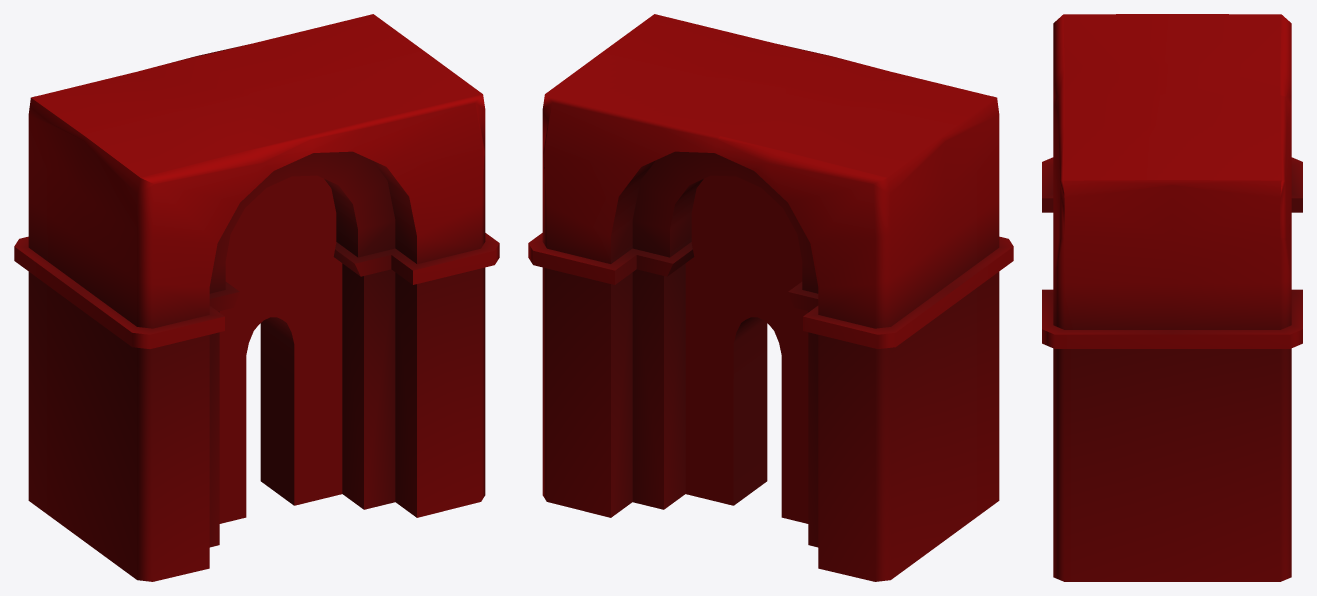
Rendered from buildings-ruins-cathedralruins_v6.fbx.
The picture shows the model from 3 angles, left to right: view 1: azimuth 30°, elevation 25°; view 2: azimuth 150°, elevation 25°; view 3: azimuth 270°, elevation 25°; orthographic projection.
Visible parts, largest first — view 1: CathedralRuins_v6; view 2: CathedralRuins_v6; view 3: CathedralRuins_v6.
Part boxes in pixels (left/top/right/bottom): CathedralRuins_v6: left=14, top=14, right=499, bottom=581; CathedralRuins_v6: left=528, top=14, right=1013, bottom=581; CathedralRuins_v6: left=1042, top=14, right=1302, bottom=581.
Size of the model in its own units: 10.2 by 10.69 by 6.3.
